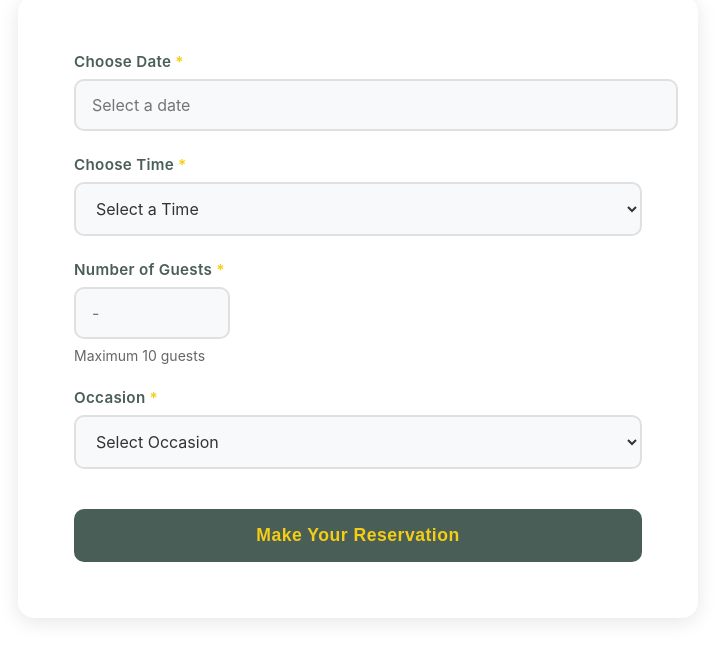
Scenario: BookingForm Component › Form Validation › shows error when guests exceeds maximum
The width and height of the screenshot is (717, 670).
Type "15" into the number field labelled "Number of Guests*" at (152, 313), box [74, 287, 230, 339]
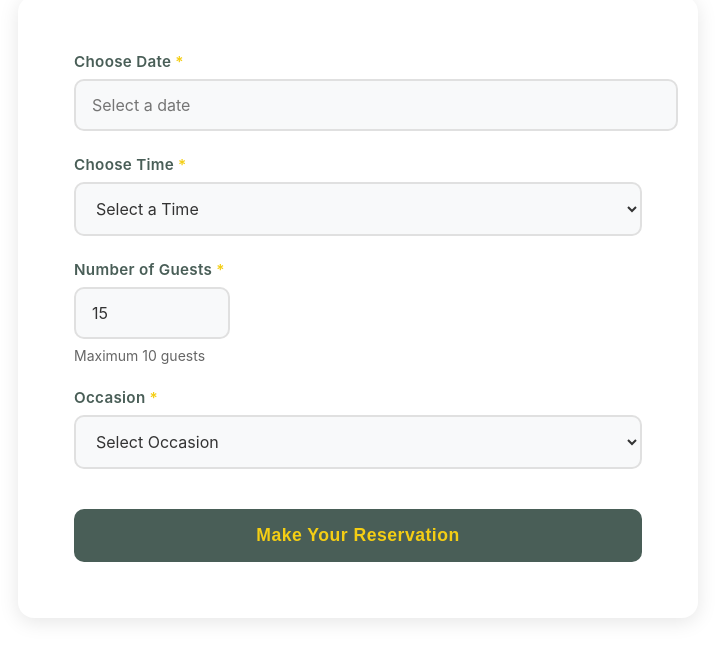
Leave the number field labelled "Number of Guests*", box [74, 287, 230, 339]
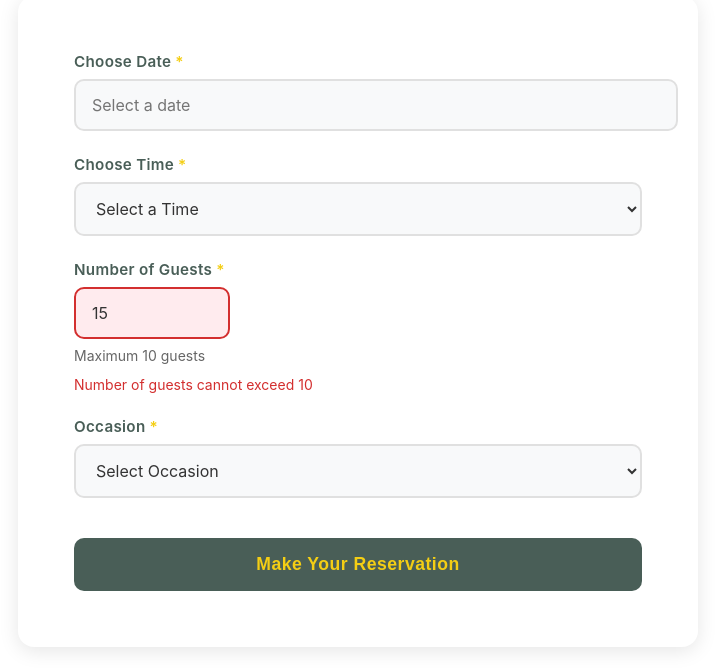
Expected: the text "Number of guests cannot exceed 10" is shown, [74, 376, 313, 393]
